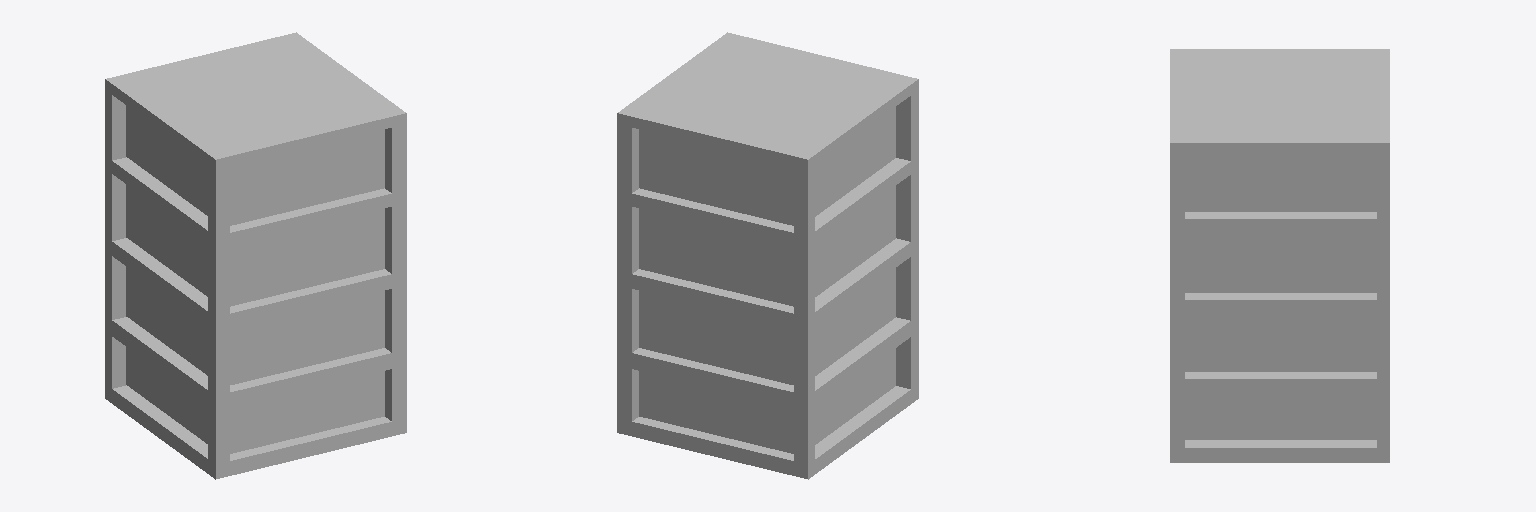
The model's file is shelf.obj.
3 views of the same model, side by side, from view 1: azimuth 30°, elevation 25°; view 2: azimuth 150°, elevation 25°; view 3: azimuth 270°, elevation 25° (orthographic).
Parts seen in each view (by area): view 1: Cube; view 2: Cube; view 3: Cube.
Part boxes in pixels (x1,y1,x2,y2): Cube: (105, 32, 406, 479); Cube: (617, 32, 918, 479); Cube: (1170, 49, 1389, 462).
Bounding box in the file's own units: 5 × 8 × 5.